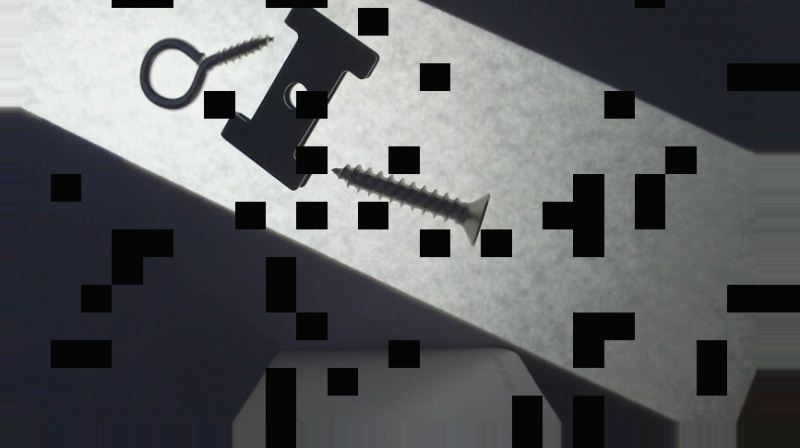O001: (137, 32, 276, 111)
O002: (219, 0, 383, 189)
S001: (330, 163, 490, 247)
